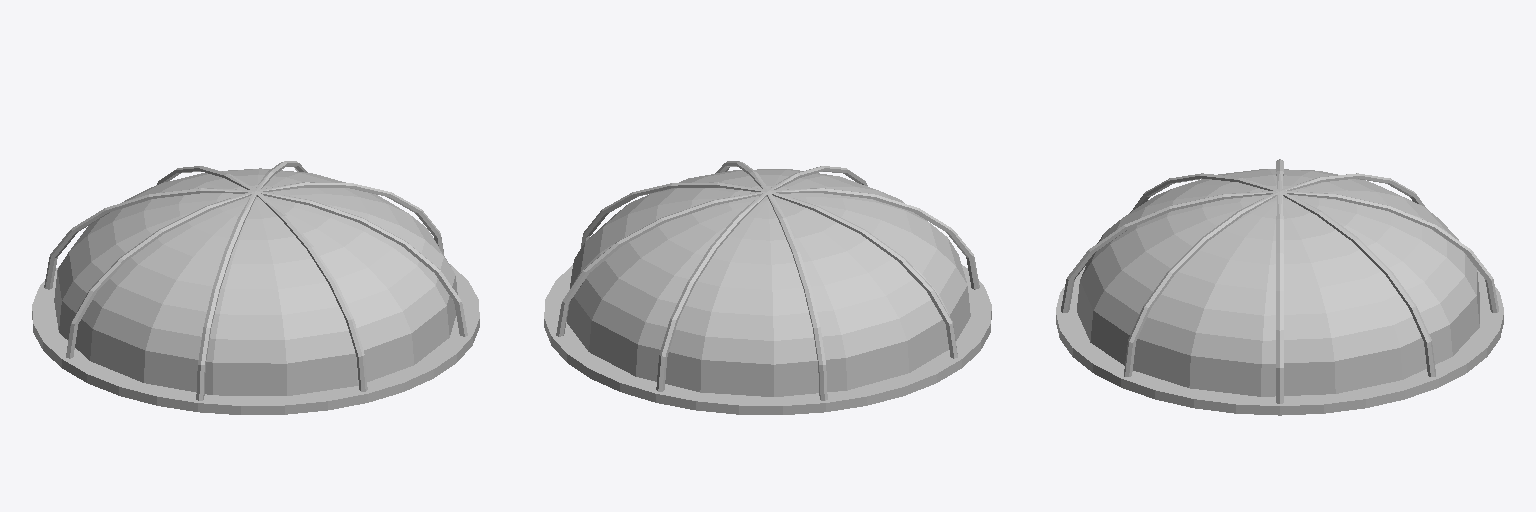
The model's file is wall_lamp.obj.
3 renders of one model, left to right at view 1: azimuth 30°, elevation 25°; view 2: azimuth 150°, elevation 25°; view 3: azimuth 270°, elevation 25°, orthographic.
Visible parts, largest first — view 1: Sphere, Cylinder, Torus.001; view 2: Sphere, Cylinder, Torus.001; view 3: Sphere, Cylinder, Torus.001.
Boxes of the visible parts, box(x1,y1,x2,y2) form: Sphere: box(54, 168, 457, 395); Cylinder: box(32, 264, 479, 414); Torus.001: box(44, 161, 467, 400); Sphere: box(567, 169, 970, 396); Cylinder: box(544, 265, 991, 414); Torus.001: box(556, 161, 979, 400); Sphere: box(1077, 169, 1479, 396); Cylinder: box(1056, 266, 1503, 415); Torus.001: box(1061, 159, 1498, 403).
Size of the model in its own units: 2.2 by 0.7001 by 2.2.